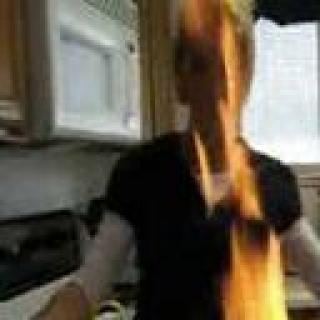fire: (183, 175, 320, 320), (174, 3, 262, 166)
